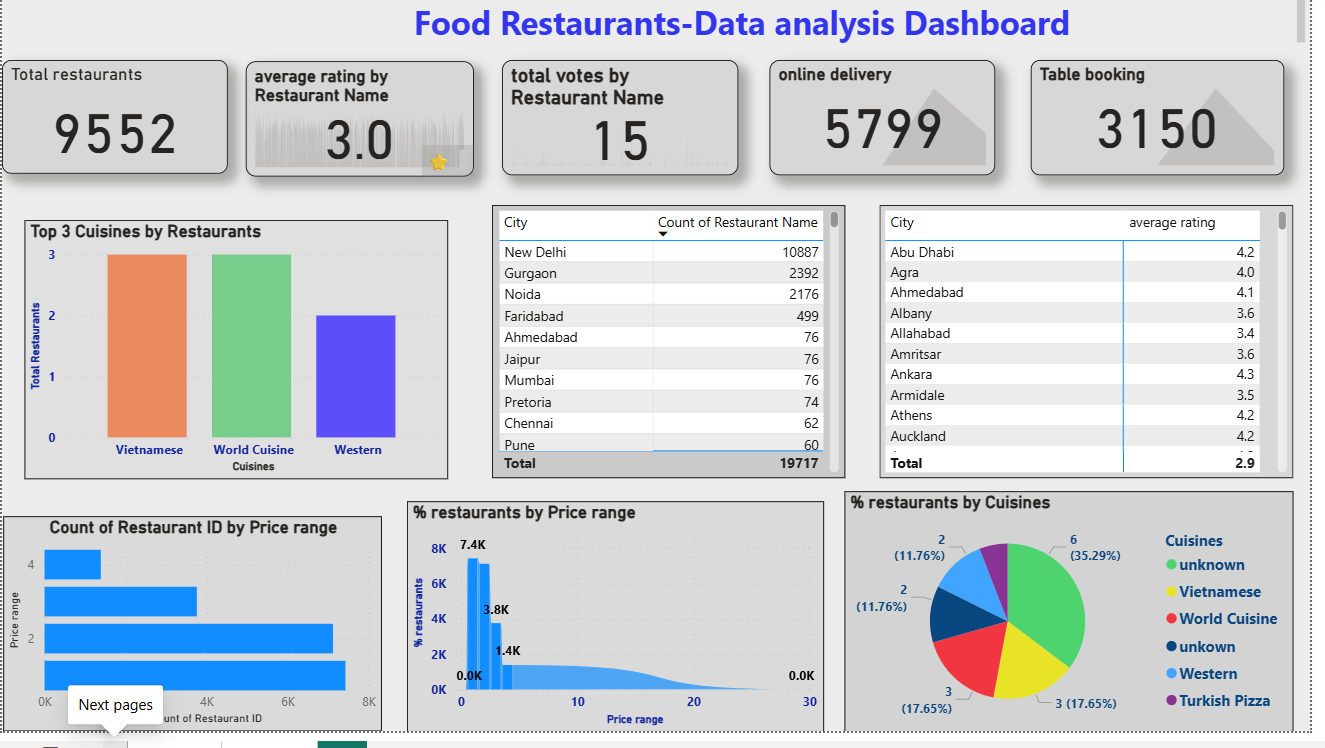

What the dashboard file says about the page in this screenshot:
{"tool":"powerbi","page":{"name":"Page 1","canvas":[1280,720],"ordinal":0},"visuals":[{"type":"textbox","box":[167.6,0,1112.2,51.9],"z":0},{"type":"columnChart","title":"Top 3 Cuisines by Restaurants","fields":{"Category":["food.Cuisines"],"Y":["food.Total Restaurants"]},"box":[22,219.6,414.4,253.9],"z":1000},{"type":"card","title":"Total restaurants","fields":{"Values":["food.Total Restaurants"]},"box":[0,63.1,220.9,111.1],"z":2000},{"type":"kpi","fields":{"Indicator":["food.average rating"],"TrendLine":["food.Restaurant Name"]},"box":[238.6,64.3,222.9,112.9],"z":3000},{"type":"kpi","fields":{"Indicator":["food.total votes"],"TrendLine":["food.Restaurant Name"]},"box":[489.3,63.8,231.3,112.7],"z":4000},{"type":"columnChart","fields":{"Y":["food.% restaurants"],"Category":["food.Price range"]},"box":[395.9,495.3,407.8,225.4],"z":5000},{"type":"pivotTable","fields":{"Rows":["food.City"],"Values":["food.average rating"]},"box":[859,205.8,404.8,267.6],"z":6000},{"type":"pieChart","fields":{"Category":["food.Cuisines"],"Y":["food.% restaurants"]},"box":[824.5,484.9,438.9,235.8],"z":7000},{"type":"clusteredBarChart","fields":{"Category":["food.Price range"],"Y":["CountNonNull(food.Restaurant ID)"]},"box":[1.5,510.1,370.7,210.6],"z":8000},{"type":"kpi","title":" Table booking","fields":{"Indicator":["food.% restaurants"],"TrendLine":["food.Has Table booking"]},"box":[1006.9,63.8,247.6,112.7],"z":9000},{"type":"kpi","title":"online delivery","fields":{"Indicator":["food.% restaurants"],"TrendLine":["food.Has Online delivery"]},"box":[750.3,63.8,220.9,112.7],"z":10000},{"type":"textbox","box":[411.4,147.1,50,30],"z":11000},{"type":"tableEx","fields":{"Values":["food.City","CountNonNull(food.Restaurant Name)"]},"box":[478.9,205.8,345.8,267.6],"z":12000}]}

Visuals, with their boxes in screenshot pixels (x1, y1, x2, y2), scaled from the page's 1280x720 canvas onto the 1325x748 screenshot:
textbox: <bbox>173, 0, 1324, 54</bbox>
"Top 3 Cuisines by Restaurants" columnChart: <bbox>23, 228, 452, 492</bbox>
"Total restaurants" card: <bbox>0, 66, 229, 181</bbox>
kpi - food.average rating x food.Restaurant Name: <bbox>247, 67, 478, 184</bbox>
kpi - food.total votes x food.Restaurant Name: <bbox>507, 66, 746, 183</bbox>
columnChart - food.% restaurants x food.Price range: <bbox>410, 515, 832, 747</bbox>
pivotTable - food.City x food.average rating: <bbox>889, 214, 1308, 492</bbox>
pieChart - food.Cuisines x food.% restaurants: <bbox>853, 504, 1308, 747</bbox>
clusteredBarChart - food.Price range x CountNonNull(food.Restaurant ID): <bbox>2, 530, 385, 747</bbox>
" Table booking" kpi: <bbox>1042, 66, 1299, 183</bbox>
"online delivery" kpi: <bbox>777, 66, 1005, 183</bbox>
textbox: <bbox>426, 153, 478, 184</bbox>
tableEx - food.City x CountNonNull(food.Restaurant Name): <bbox>496, 214, 854, 492</bbox>
